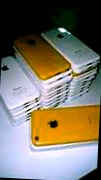iphone: (32, 27, 97, 73)
